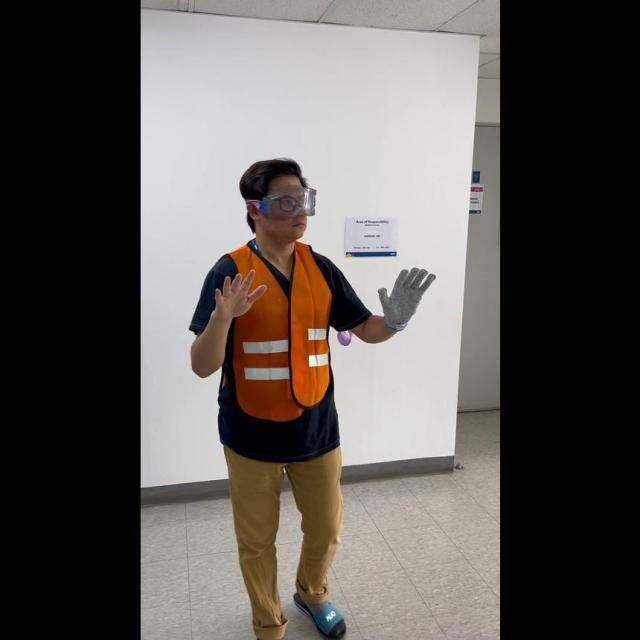bare_hand: (207, 263, 267, 324)
gloved_hand: (374, 261, 435, 329)
